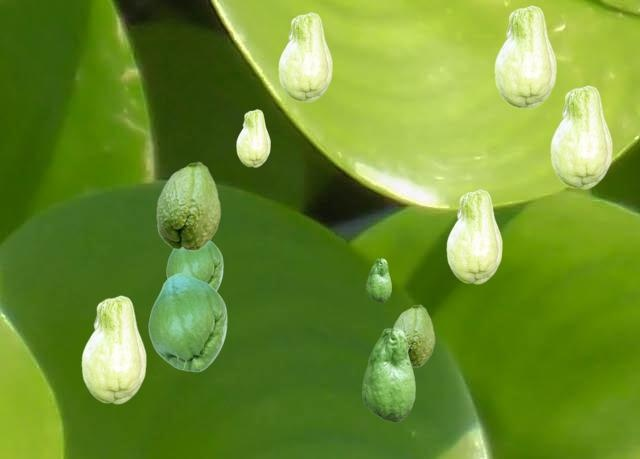sayote: (148, 273, 226, 371), (81, 295, 145, 403), (550, 85, 611, 188), (494, 5, 555, 108), (156, 161, 220, 250), (446, 189, 501, 283), (362, 327, 414, 421), (278, 12, 331, 101), (166, 241, 222, 290), (393, 304, 434, 366), (236, 109, 269, 166), (366, 258, 390, 301)
